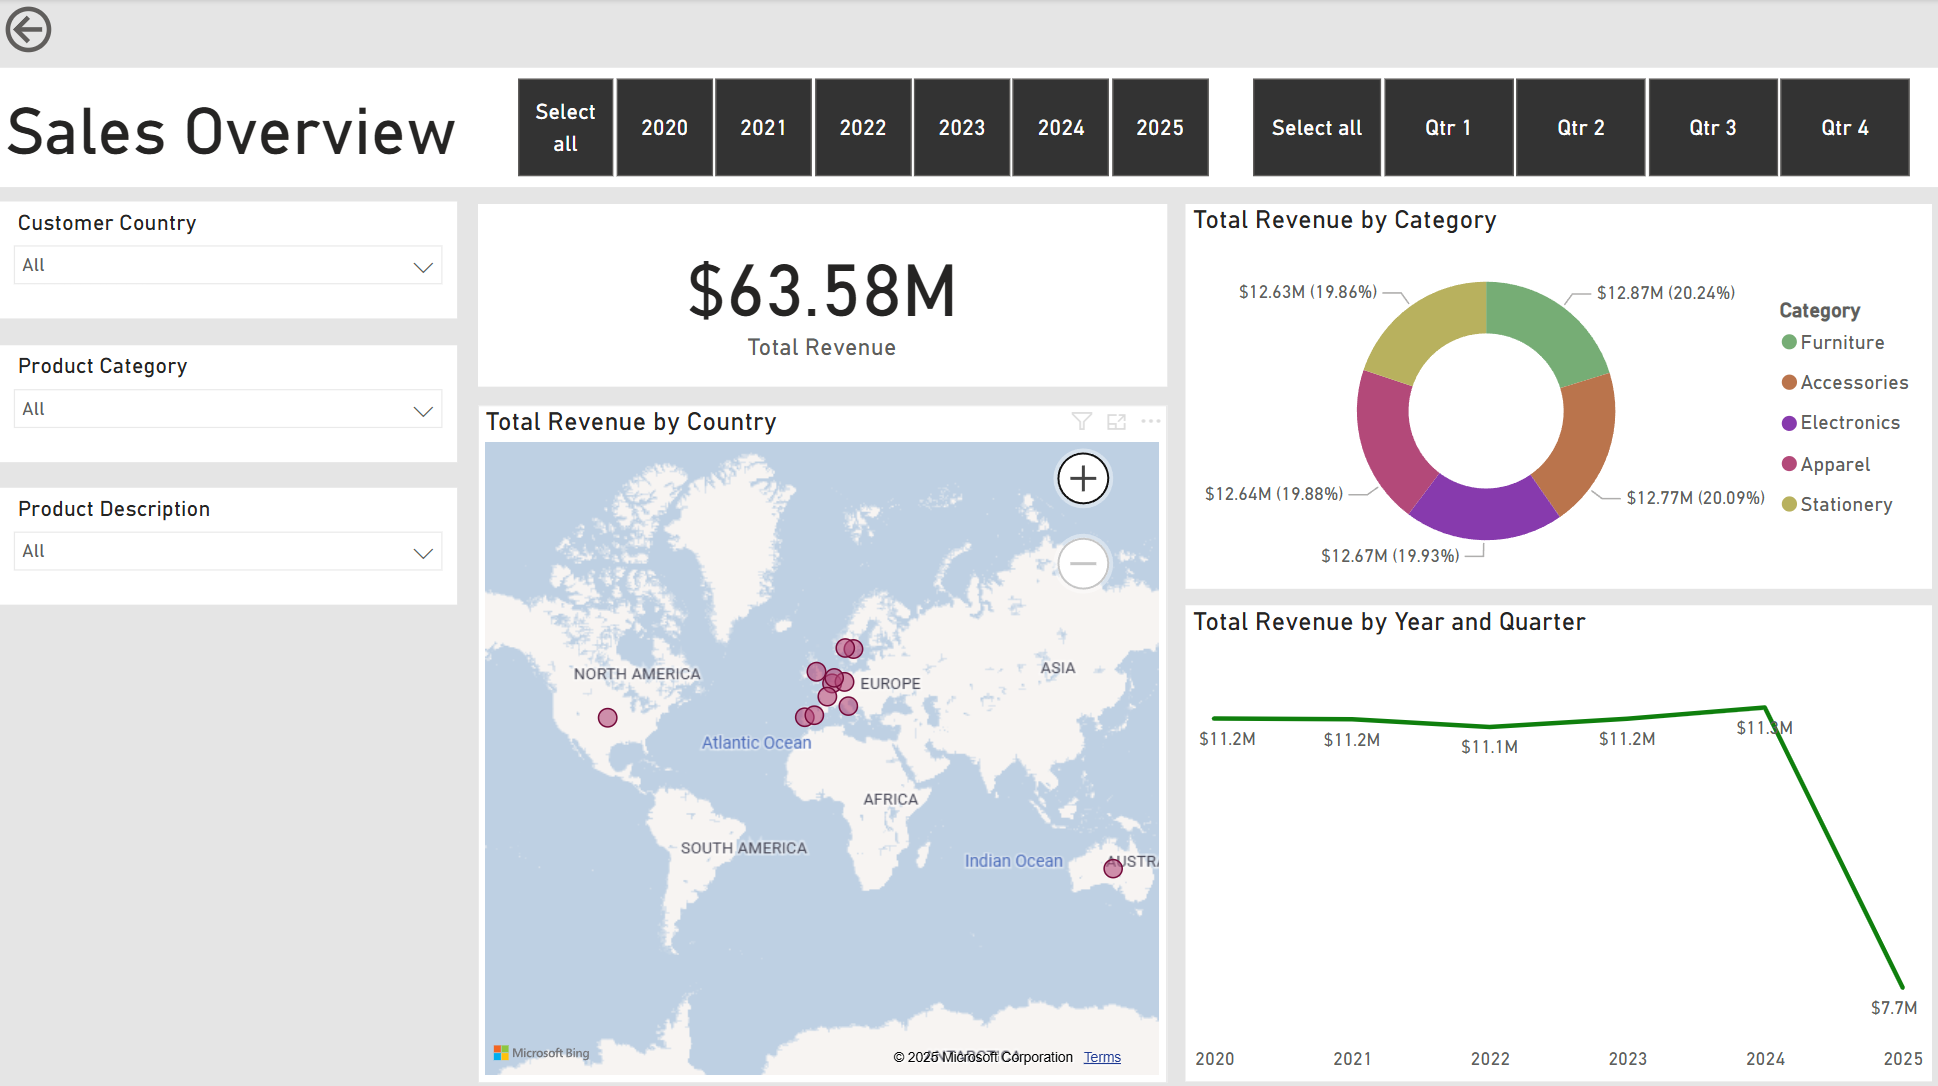

Layout of this report page (visuals, bound fields, positions):
{"tool":"powerbi","page":{"name":"Sales Overview","canvas":[1280,720],"ordinal":0},"visuals":[{"type":"textbox","box":[0,45.2,1280.3,78.3],"z":0},{"type":"slicer","fields":{"Values":["Online_Sales_Final.Country"]},"box":[0,133.1,301.9,76.8],"z":1000},{"type":"slicer","fields":{"Values":["Online_Sales_Final.Category"]},"box":[0,227.8,301.9,76.8],"z":2000},{"type":"slicer","fields":{"Values":["Online_Sales_Final.Description"]},"box":[0,321.1,301.9,76.8],"z":3000},{"type":"slicer","fields":{"Values":["Online_Sales_Final.Order Date.Variación.Jerarquía de fechas.Año"]},"box":[315.5,45.2,503.8,78.3],"z":4000},{"type":"slicer","fields":{"Values":["Online_Sales_Final.Order Date.Variación.Jerarquía de fechas.Trimestre"]},"box":[798.5,45.2,481.8,78.3],"z":5000},{"type":"card","fields":{"Values":["Online_Sales_Final.Total Revenue"]},"box":[315.5,134.5,452.4,119.8],"z":6000},{"type":"donutChart","fields":{"Category":["Online_Sales_Final.Category"],"Y":["Online_Sales_Final.Total Revenue"]},"box":[780.2,134.5,490.4,262.9],"z":7000},{"type":"lineChart","title":"Total Revenue by Year and Quarter","fields":{"Category":["Online_Sales_Final.Order Date.Variación.Jerarquía de fechas.Año","Online_Sales_Final.Order Date.Variación.Jerarquía de fechas.Trimestre"],"Y":["Online_Sales_Final.Total Revenue"]},"box":[780.2,407.2,490.4,304.5],"z":8000},{"type":"actionButton","box":[0,0,100,40],"z":9000},{"type":"map","fields":{"Category":["Online_Sales_Final.Country"],"Size":["Online_Sales_Final.Total Revenue"]},"box":[315.5,266.6,452.4,445.1],"z":10000}]}

Visuals, with their boxes in screenshot pixels (x1, y1, x2, y2), scaled from the page's 1280x720 canvas onto the 1938x1086 screenshot:
textbox: box=[0, 68, 1937, 186]
slicer - Online_Sales_Final.Country: box=[0, 201, 457, 317]
slicer - Online_Sales_Final.Category: box=[0, 344, 457, 459]
slicer - Online_Sales_Final.Description: box=[0, 484, 457, 600]
slicer - Online_Sales_Final.Order Date.Variación.Jerarquía de fechas.Año: box=[478, 68, 1240, 186]
slicer - Online_Sales_Final.Order Date.Variación.Jerarquía de fechas.Trimestre: box=[1209, 68, 1937, 186]
card - Online_Sales_Final.Total Revenue: box=[478, 203, 1163, 384]
donutChart - Online_Sales_Final.Category x Online_Sales_Final.Total Revenue: box=[1181, 203, 1924, 599]
"Total Revenue by Year and Quarter" lineChart: box=[1181, 614, 1924, 1073]
actionButton: box=[0, 0, 151, 60]
map - Online_Sales_Final.Country x Online_Sales_Final.Total Revenue: box=[478, 402, 1163, 1073]
